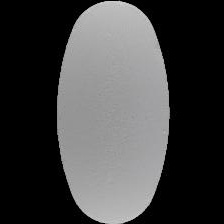53746-179: (0, 0, 224, 224)
